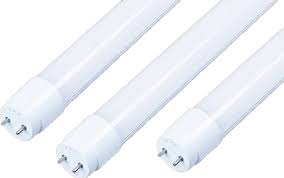Light_bulb: (55, 1, 278, 178), (1, 1, 183, 143), (152, 27, 284, 173)
